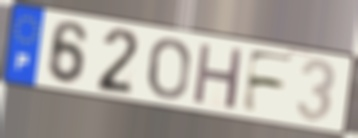2: (94, 26, 141, 97)
3: (294, 57, 342, 127)
6: (45, 19, 90, 88)
F: (239, 47, 298, 116)
H: (190, 40, 246, 112)
O: (146, 36, 192, 101)
